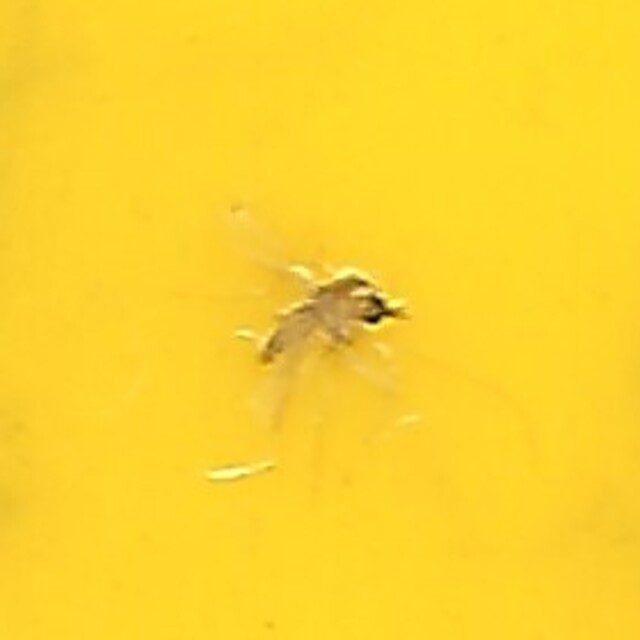Nematocera: (229, 256, 411, 384)
